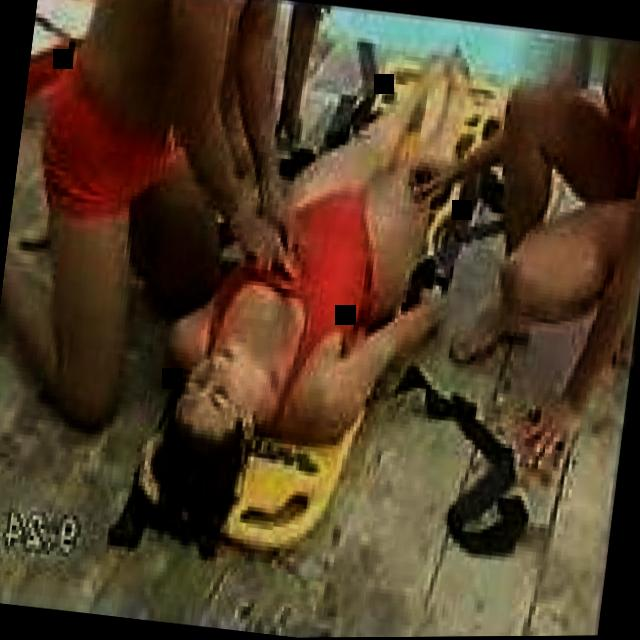Fall-Detected: (122, 20, 500, 556)
